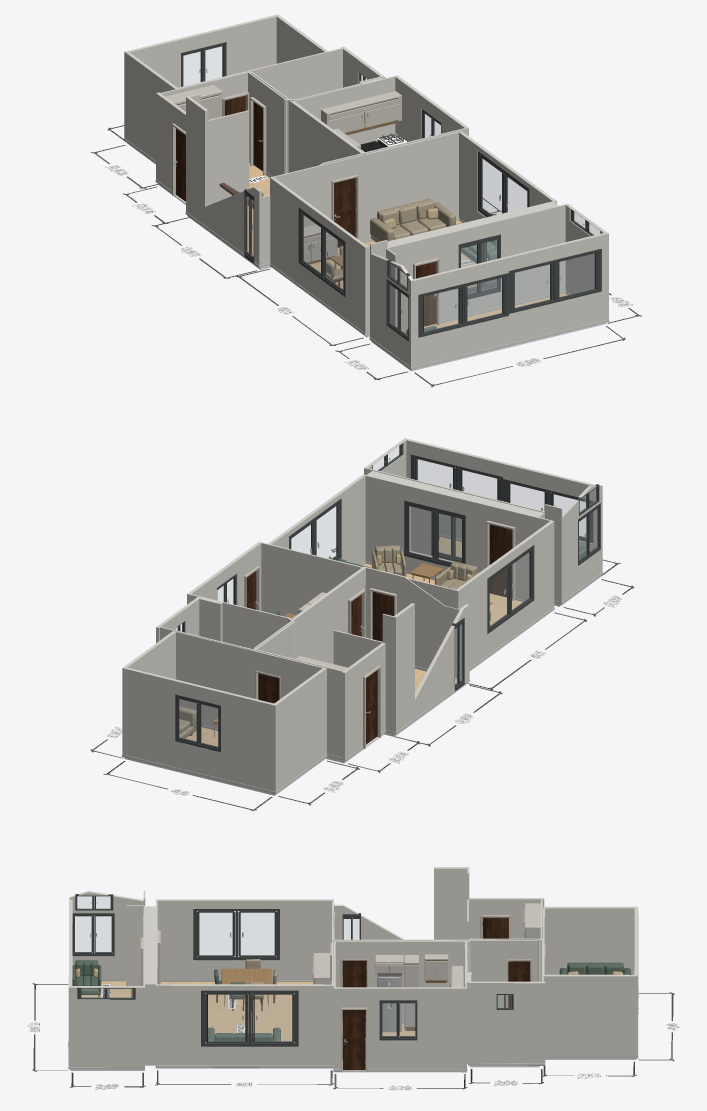
File: zemin-iyilestirilmis.glb
3 views of the same model, one above another, from view 1: azimuth 30°, elevation 25°; view 2: azimuth 150°, elevation 25°; view 3: azimuth 270°, elevation 25° (orthographic). The views are drawn at different scales.
Visible parts, largest first — view 1: Duvar.031, Duvar.030, Duvar.036, Duvar.029, Duvar, Duvar.010, wall_022.008, wall_022.007, Duvar.006, Duvar.011, Duvar.014, Duvar.009 (+31 smaller); view 2: Duvar.010, Duvar.027, Duvar.013, Duvar.029, Duvar, Duvar.011, Duvar.023, Duvar.031, Duvar.008, Duvar.009, wall_022.004, Duvar.004 (+33 smaller); view 3: Duvar.028, Duvar.029, Duvar.022, Duvar.012, Duvar.016, wall_022.005, Duvar.032, Duvar.011, wall_022.006, Duvar, Oda.004, Duvar.026 (+31 smaller).
Part boxes in pixels (x1,y1,x2,y2): Duvar.031: [411, 232, 608, 367]; Duvar.030: [273, 131, 461, 248]; Duvar.036: [387, 204, 568, 330]; Duvar.029: [270, 176, 367, 332]; Duvar: [186, 96, 262, 264]; Duvar.010: [125, 14, 279, 87]; wall_022.008: [509, 248, 601, 313]; wall_022.007: [418, 273, 508, 337]; Duvar.006: [208, 110, 249, 205]; Duvar.011: [124, 52, 178, 160]; Duvar.014: [246, 48, 343, 99]; Duvar.009: [252, 72, 362, 172]; Duvar.010: [122, 667, 276, 791]; Duvar.027: [363, 473, 553, 600]; Duvar.013: [173, 631, 323, 728]; Duvar.029: [456, 521, 554, 668]; Duvar: [393, 603, 469, 734]; Duvar.011: [274, 667, 326, 791]; Duvar.023: [259, 542, 363, 616]; Duvar.031: [403, 438, 597, 551]; Duvar.008: [365, 567, 461, 677]; Duvar.009: [254, 567, 365, 663]; wall_022.004: [404, 500, 465, 566]; Duvar.004: [342, 642, 385, 761]; Duvar.028: [155, 984, 333, 1065]; Duvar.029: [156, 899, 333, 980]; Duvar.022: [334, 987, 466, 1069]; Duvar.012: [543, 974, 637, 1056]; Duvar.016: [468, 981, 545, 1063]; wall_022.005: [201, 990, 298, 1046]; Duvar.032: [69, 986, 144, 1067]; Duvar.011: [543, 906, 637, 974]; wall_022.006: [193, 909, 279, 960]; Duvar: [334, 867, 469, 974]; Oda.004: [155, 982, 333, 1068]; Duvar.026: [332, 940, 465, 1021].
Size of the model in its own units: 0.489 by 0.1796 by 0.9912.
Materials: 39 (17 with a texture image).
